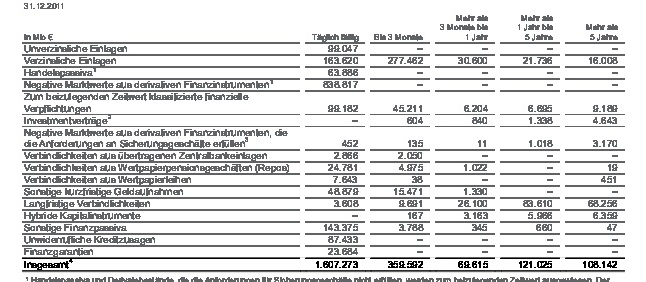table: (0, 0, 646, 282)
